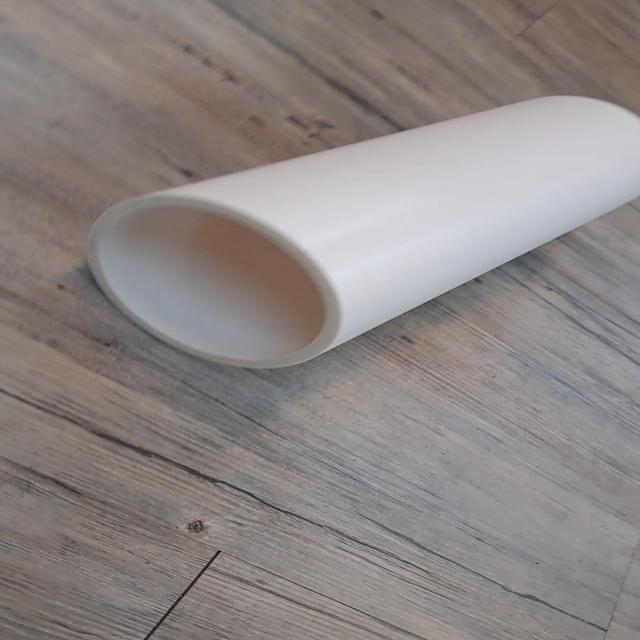CORAL: (71, 88, 640, 381)
